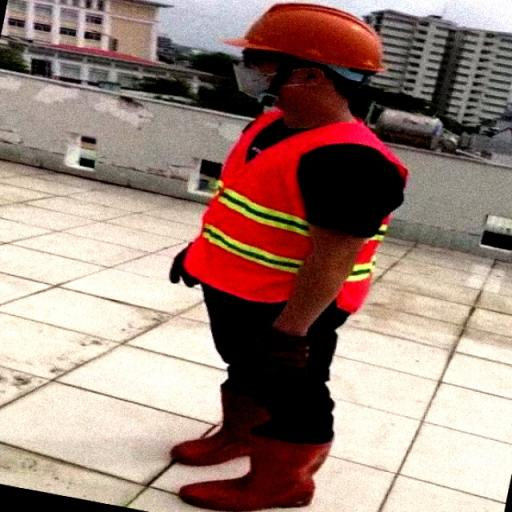Hardhat: (123, 0, 435, 512)
Mask: (181, 389, 352, 512), (170, 372, 266, 478)
NO-Hardhat: (163, 223, 231, 301), (253, 302, 316, 375)
NO-Mask: (208, 48, 359, 80)
NO-Safety Vest: (225, 2, 406, 74)
vehicle: (176, 110, 430, 336)
